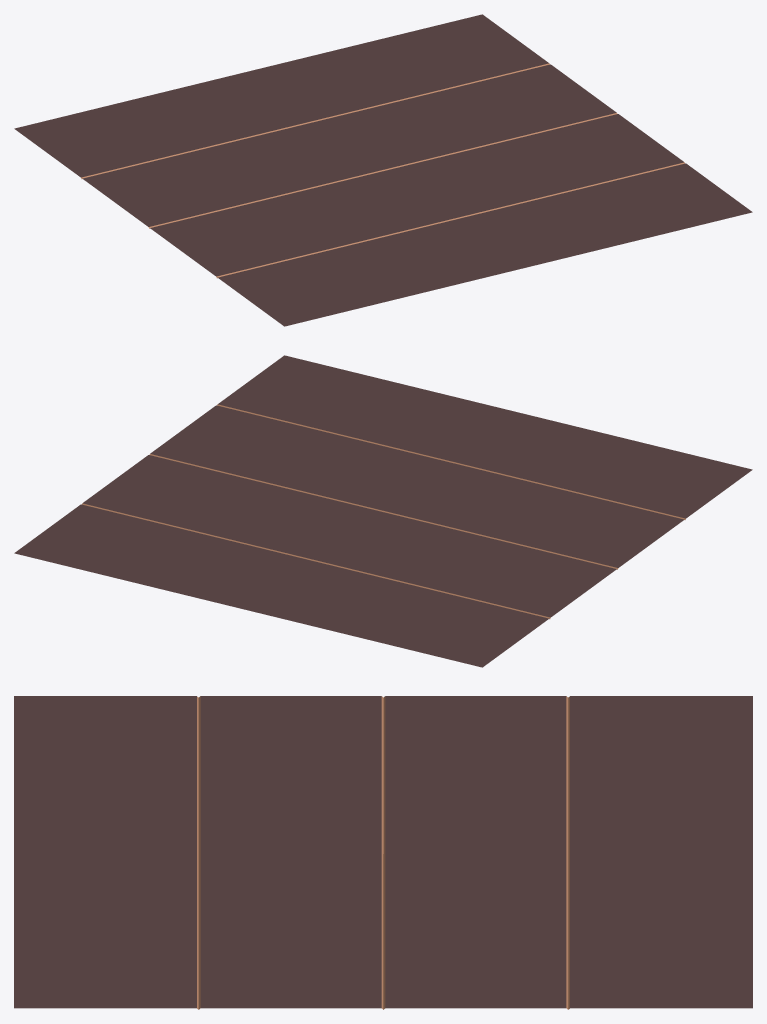
File: builder_38.FBX
The picture shows the model from 3 angles, top to bottom: view 1: azimuth 30°, elevation 25°; view 2: azimuth 150°, elevation 25°; view 3: azimuth 270°, elevation 25°; orthographic projection. The views are drawn at different scales.
Parts seen in each view (by area): view 1: builder_38; view 2: builder_38; view 3: builder_38.
Boxes of the visible parts, left/top/right/bottom form: builder_38: left=14, top=14, right=752, bottom=326; builder_38: left=14, top=355, right=752, bottom=667; builder_38: left=14, top=696, right=752, bottom=1009.
Size of the model in its own units: 120 by 0.295 by 120.
